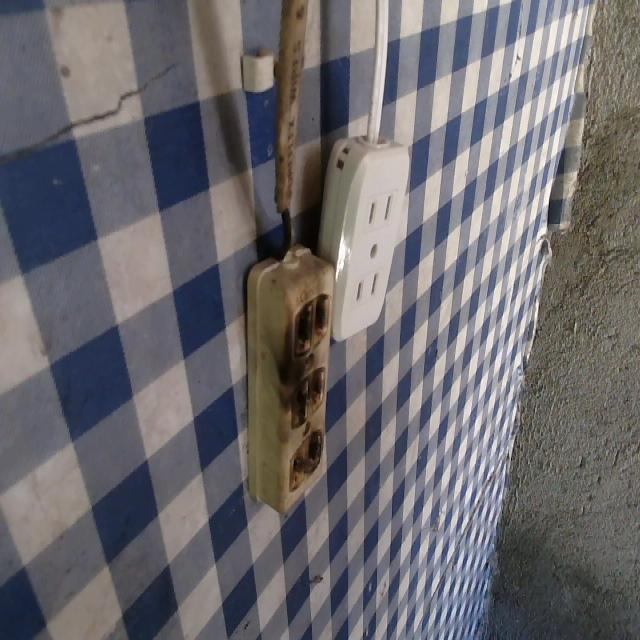-: (281, 431, 339, 506), (289, 286, 336, 354), (291, 365, 335, 424)
